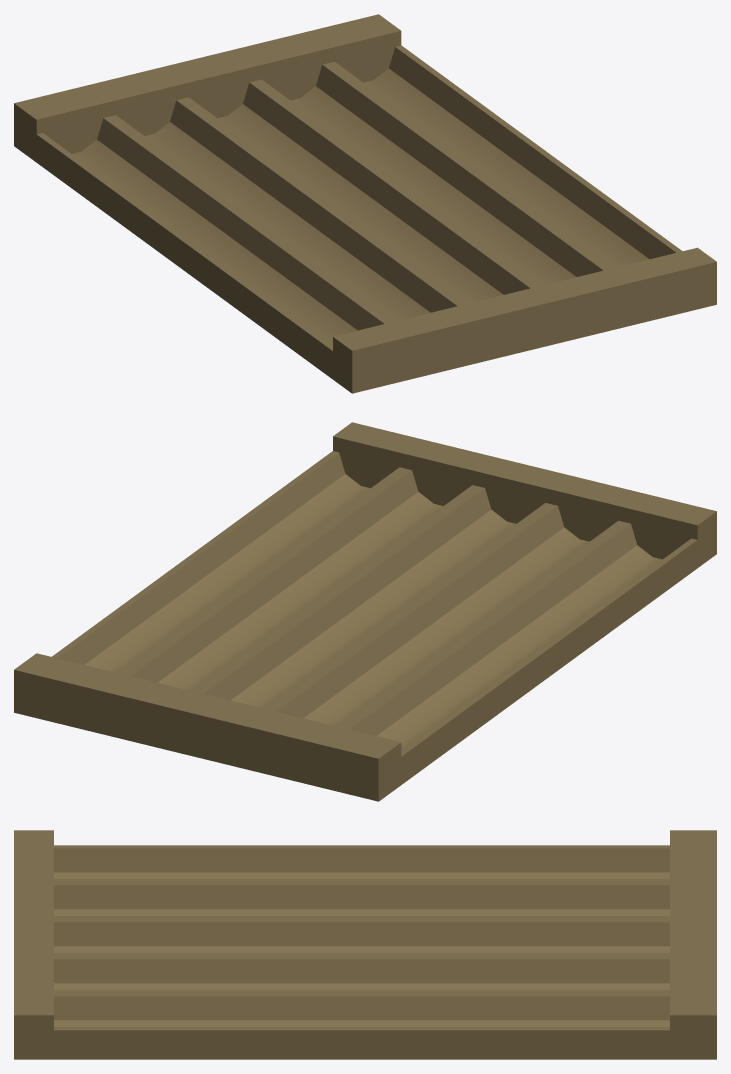
File: monedero.fbx
The picture shows the model from 3 angles, top to bottom: view 1: azimuth 30°, elevation 25°; view 2: azimuth 150°, elevation 25°; view 3: azimuth 270°, elevation 25°; orthographic projection. The views are drawn at different scales.
Visible parts, largest first — view 1: monedero; view 2: monedero; view 3: monedero.
Boxes of the visible parts, x1,y1,x2,y2 form: monedero: (14, 14, 716, 393); monedero: (14, 422, 716, 801); monedero: (14, 830, 716, 1059).
Size of the model in its own units: 5.14 by 0.5783 by 8.26.
